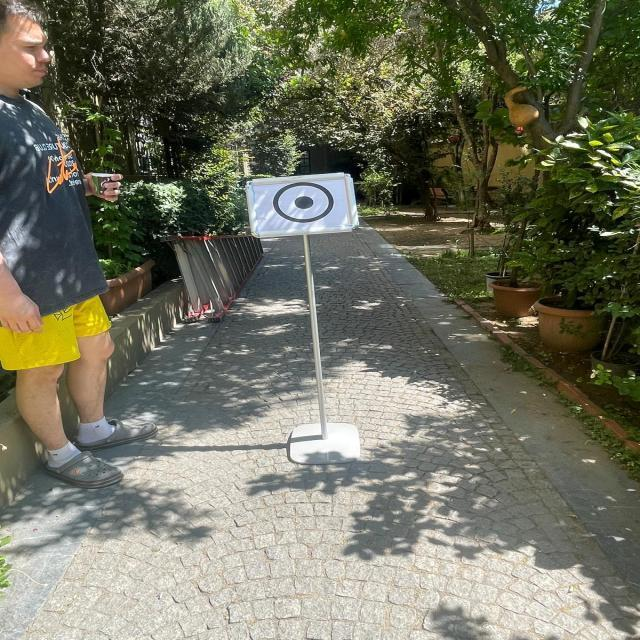Target: (224, 168, 384, 243)
inner: (286, 193, 320, 213)
